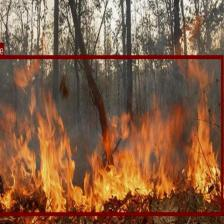fire: (0, 55, 223, 215)
